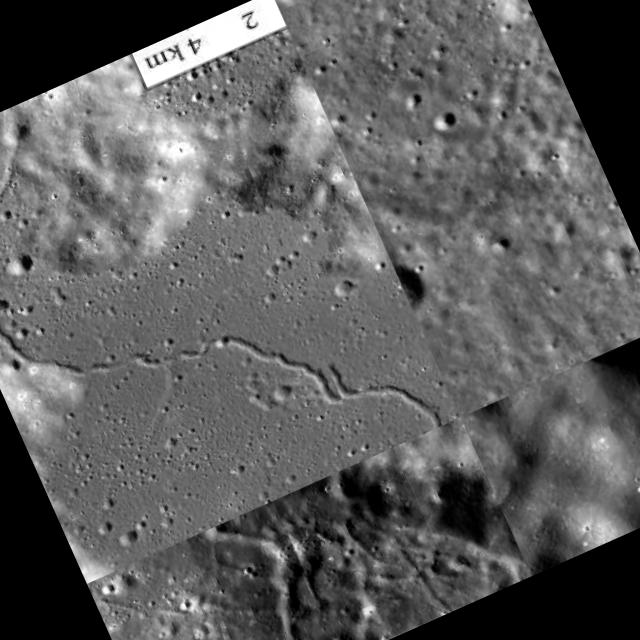rille: (0, 4, 459, 575), (300, 0, 566, 260), (187, 447, 464, 640)
